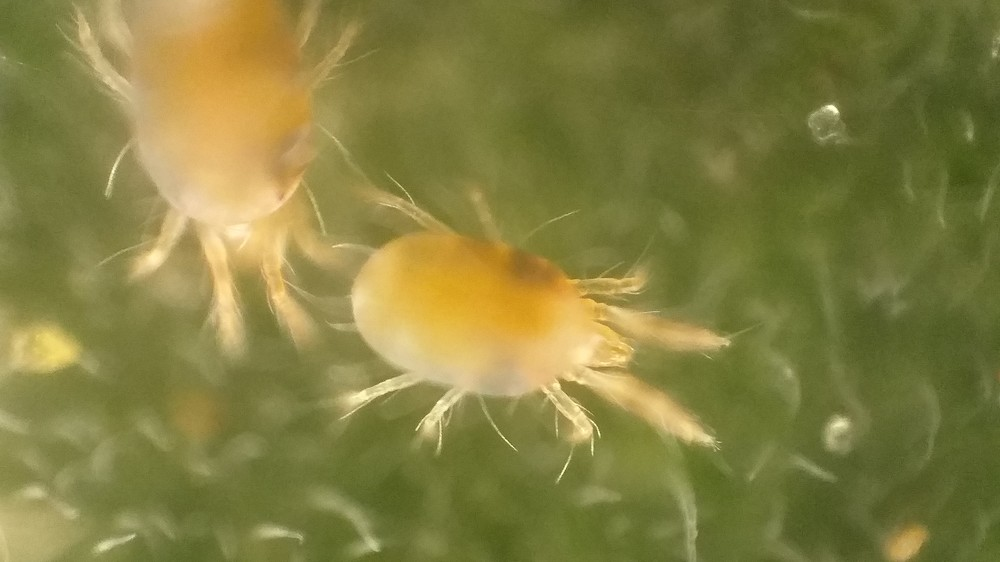Aracnido Rojo: (323, 186, 751, 481), (64, 4, 358, 368)
